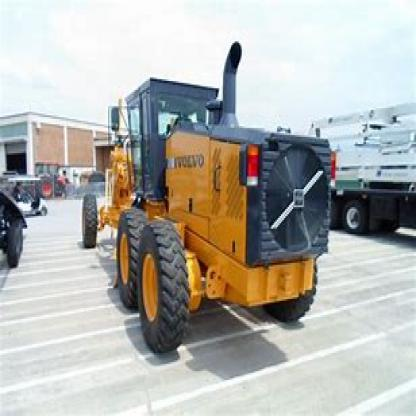bull_dozer/loader/grader: (77, 65, 325, 351)
